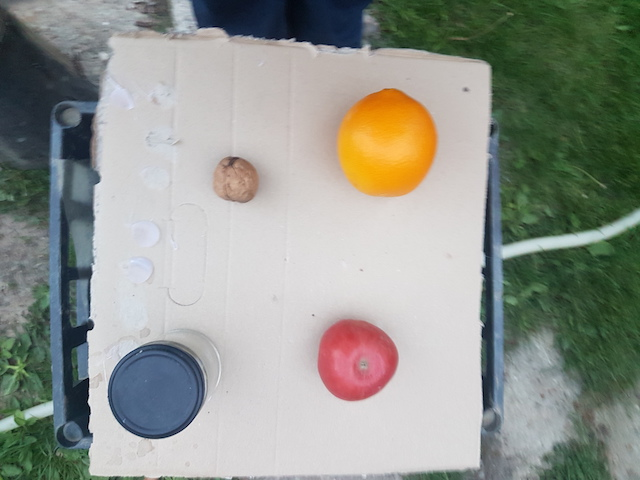apple: (316, 317, 396, 402)
nut: (211, 156, 260, 205)
orange: (335, 86, 439, 199)
recipient: (106, 341, 201, 440)
